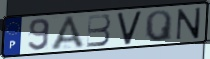9: (27, 18, 50, 52)
A: (49, 14, 87, 51)
B: (85, 13, 112, 49)
N: (175, 6, 203, 41)
Q: (144, 9, 173, 43)
V: (116, 9, 143, 46)
